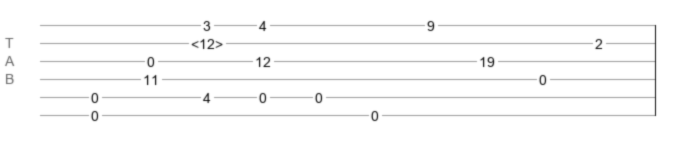0: (91, 108, 99, 118), (91, 90, 99, 100), (147, 54, 155, 64), (259, 90, 267, 100), (315, 90, 323, 100), (371, 108, 379, 118), (539, 72, 547, 82)
11: (143, 72, 159, 82)
12: (255, 54, 271, 64)
19: (479, 54, 495, 64)
2: (595, 36, 603, 46)
3: (203, 18, 211, 28)
4: (203, 90, 211, 100), (259, 18, 267, 28)
9: (427, 18, 435, 28)
harmonic: (191, 36, 223, 46)
